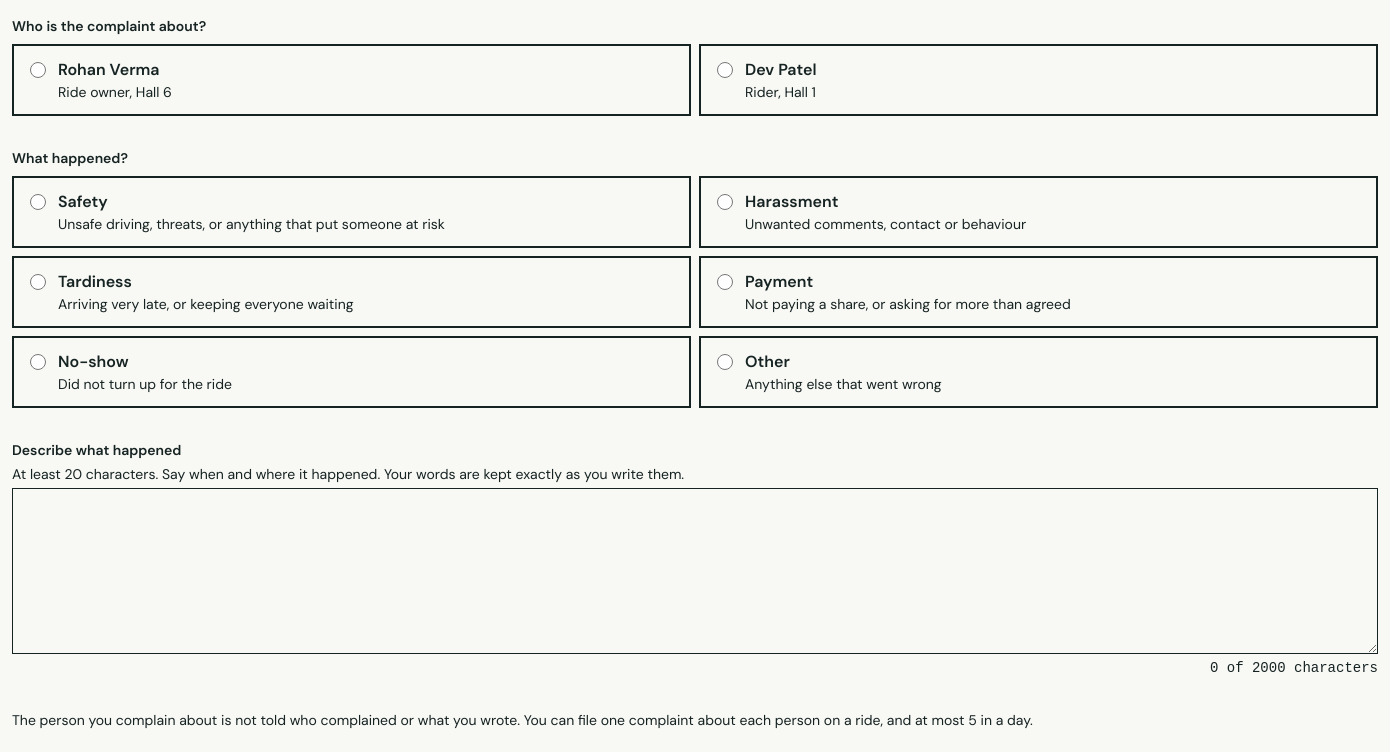
Test: ComplaintForm (FR-RD-13.1 to 13.6, CS455-53) › shows the API refusal, with field messages
This screenshot has width=1390, height=752.
Click the radio button labelled "Rohan Verma Ride owner, Hall 6" at (38, 70), box [30,62,46,78]
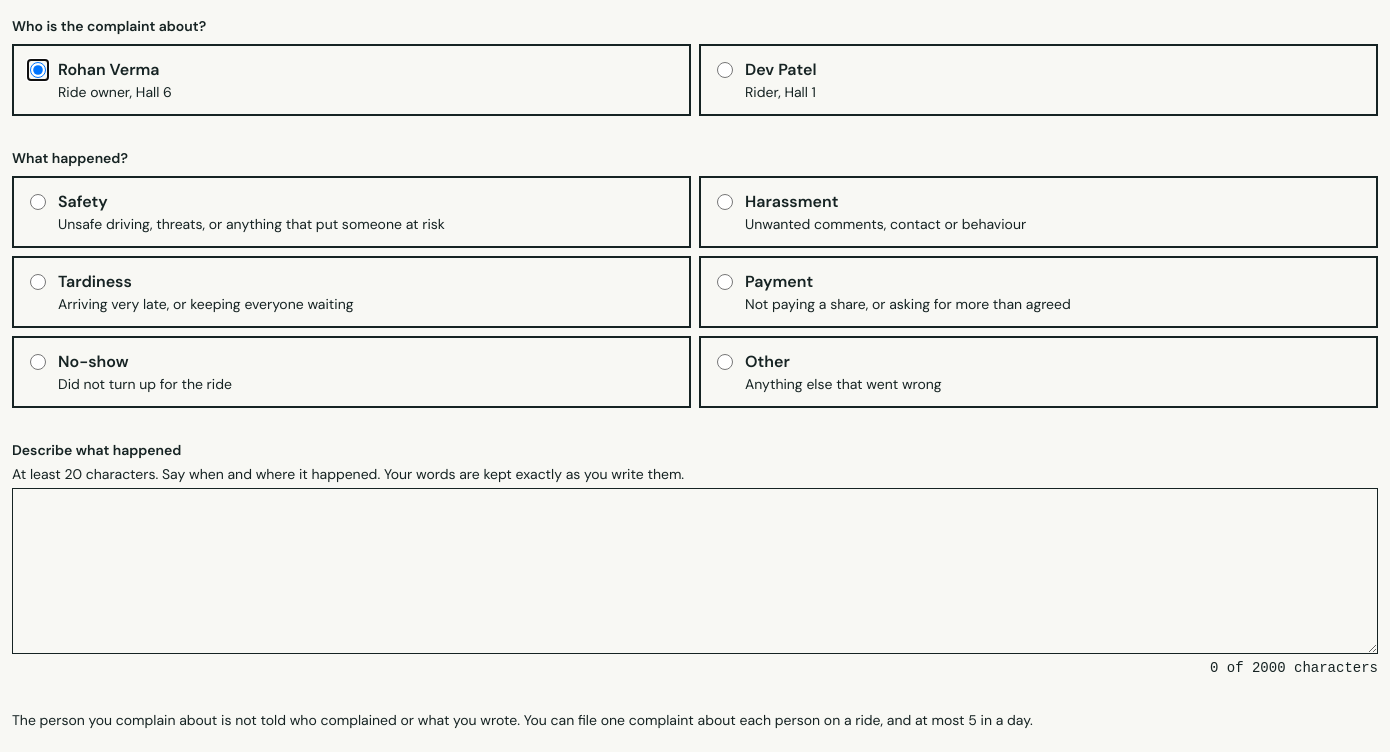
Click the radio button labelled "Tardiness Arriving very late, or keeping everyone waiting" at (38, 282), box [30,274,46,290]
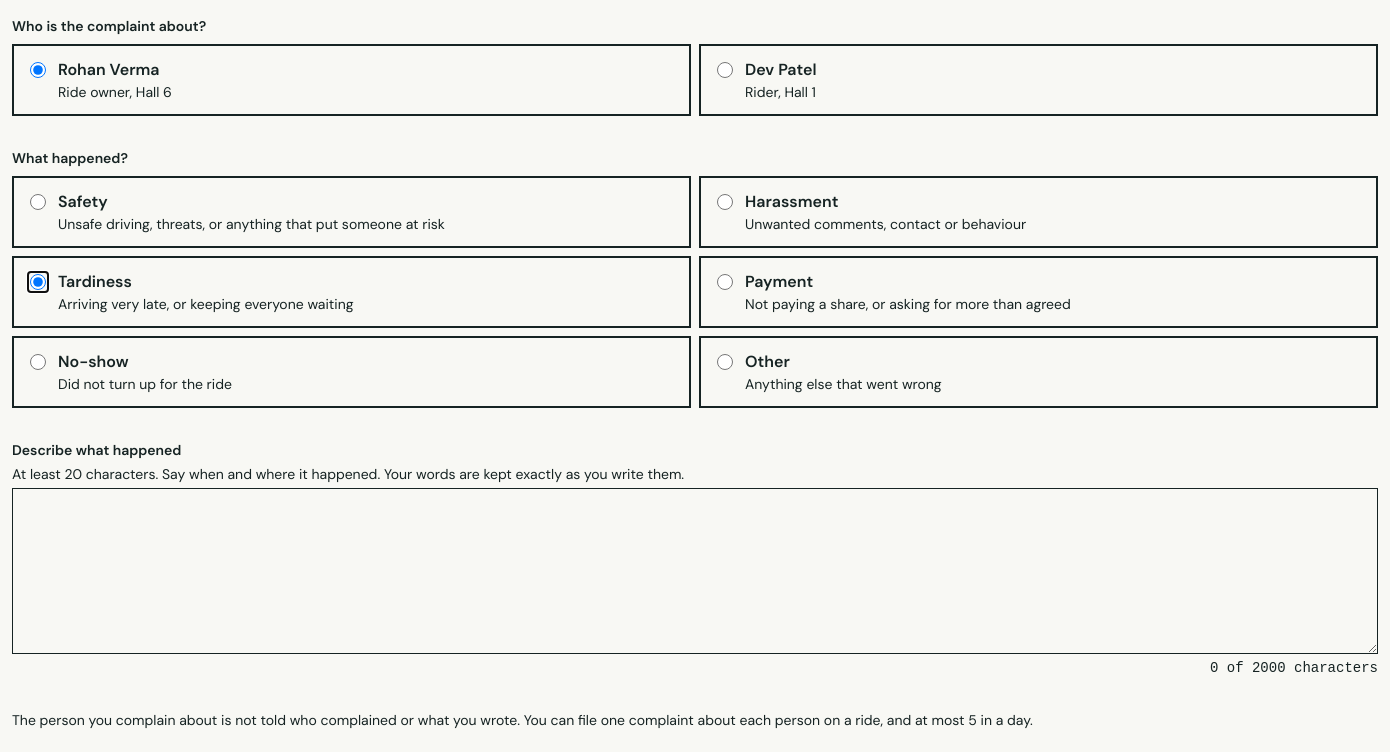
Type "Arrived 25 minutes late to the pickup point." into the text box labelled "Describe what happened" at (695, 571), box [12,488,1378,654]
(page scrolled)
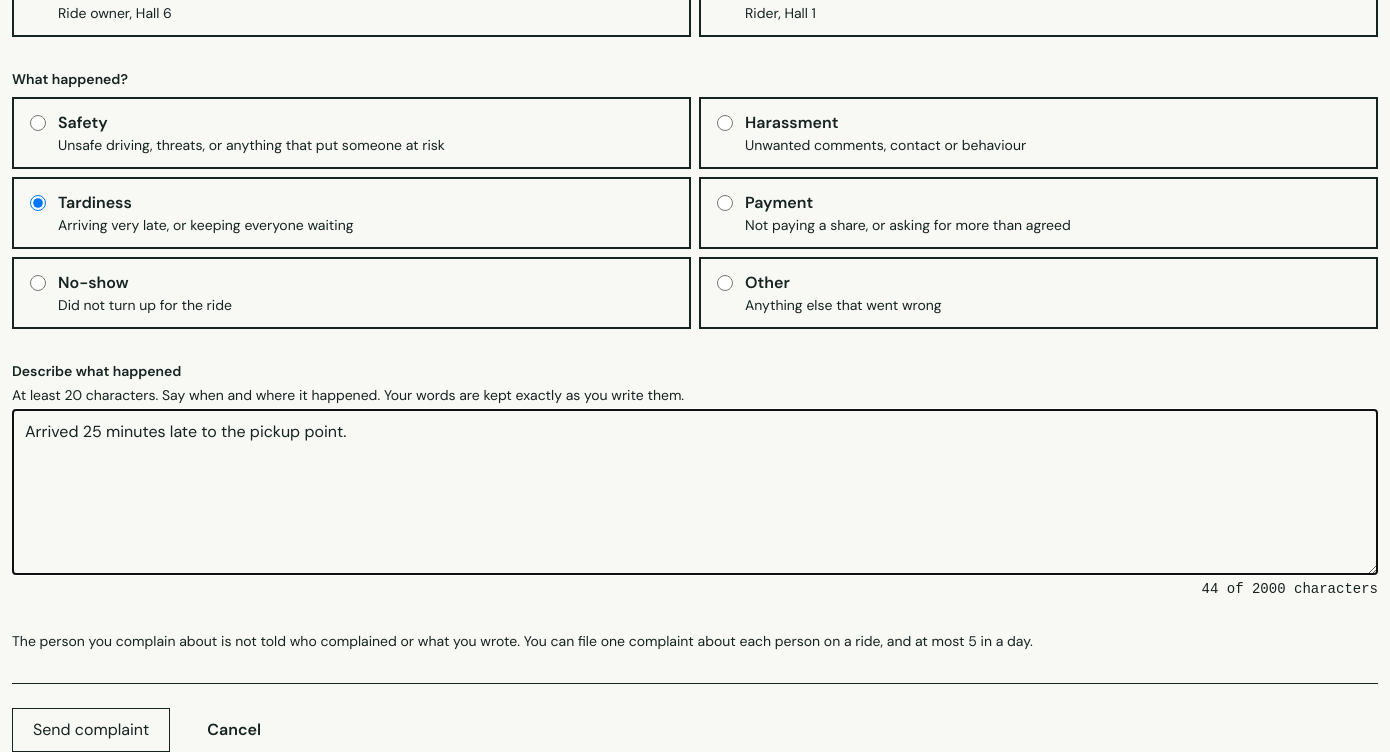
Click the button "Send complaint" at (91, 730), box [12,708,170,751]
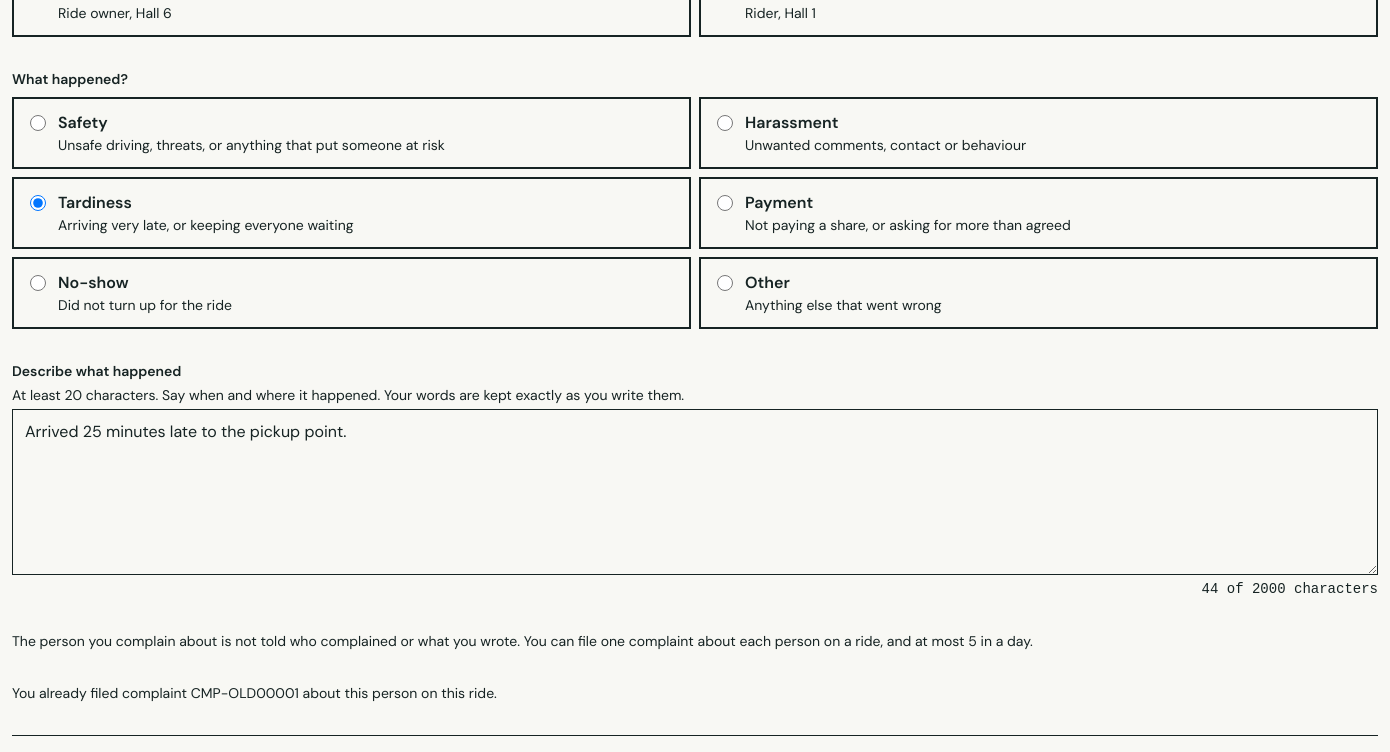
Expected: the message shows "CMP-OLD00001", [12,684,497,702]
